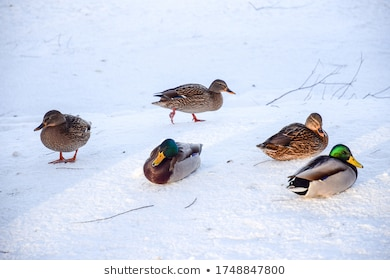duck: (270, 145, 376, 206), (144, 73, 240, 129), (24, 108, 103, 172), (130, 138, 222, 180), (252, 113, 330, 156)
